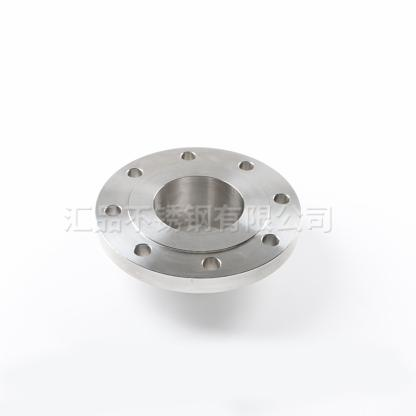FOD: (94, 143, 304, 300)
